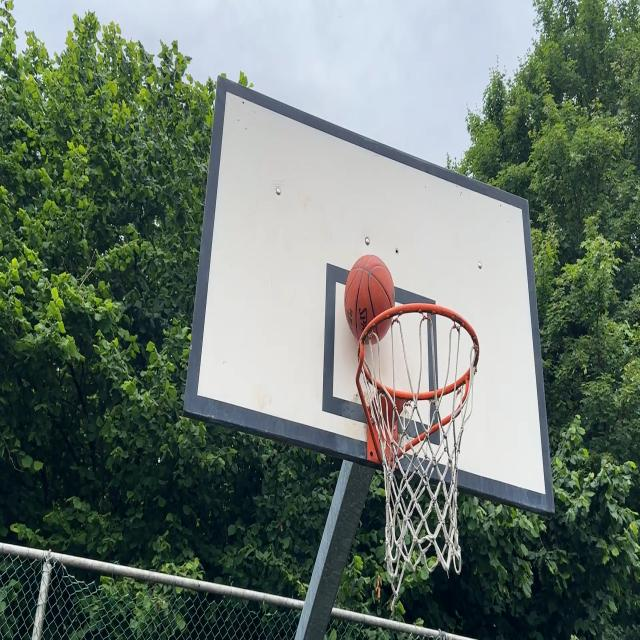rebound_hit: (345, 255, 395, 348)
